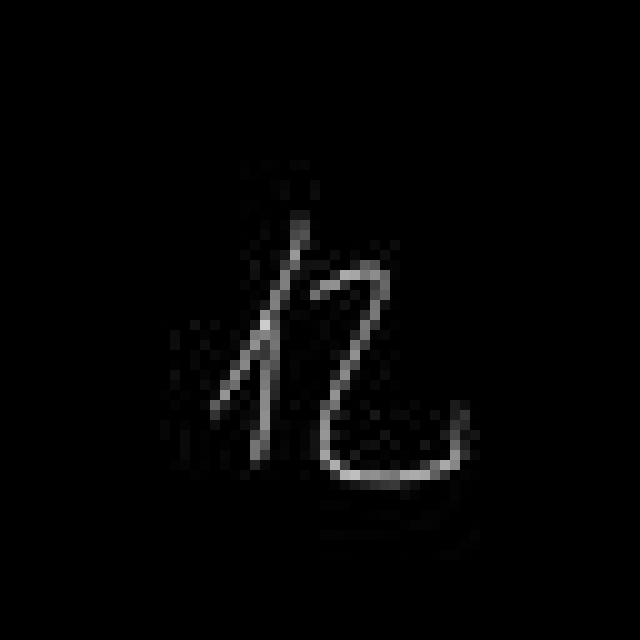100000 -a hundred thousand-: (194, 198, 464, 494)
